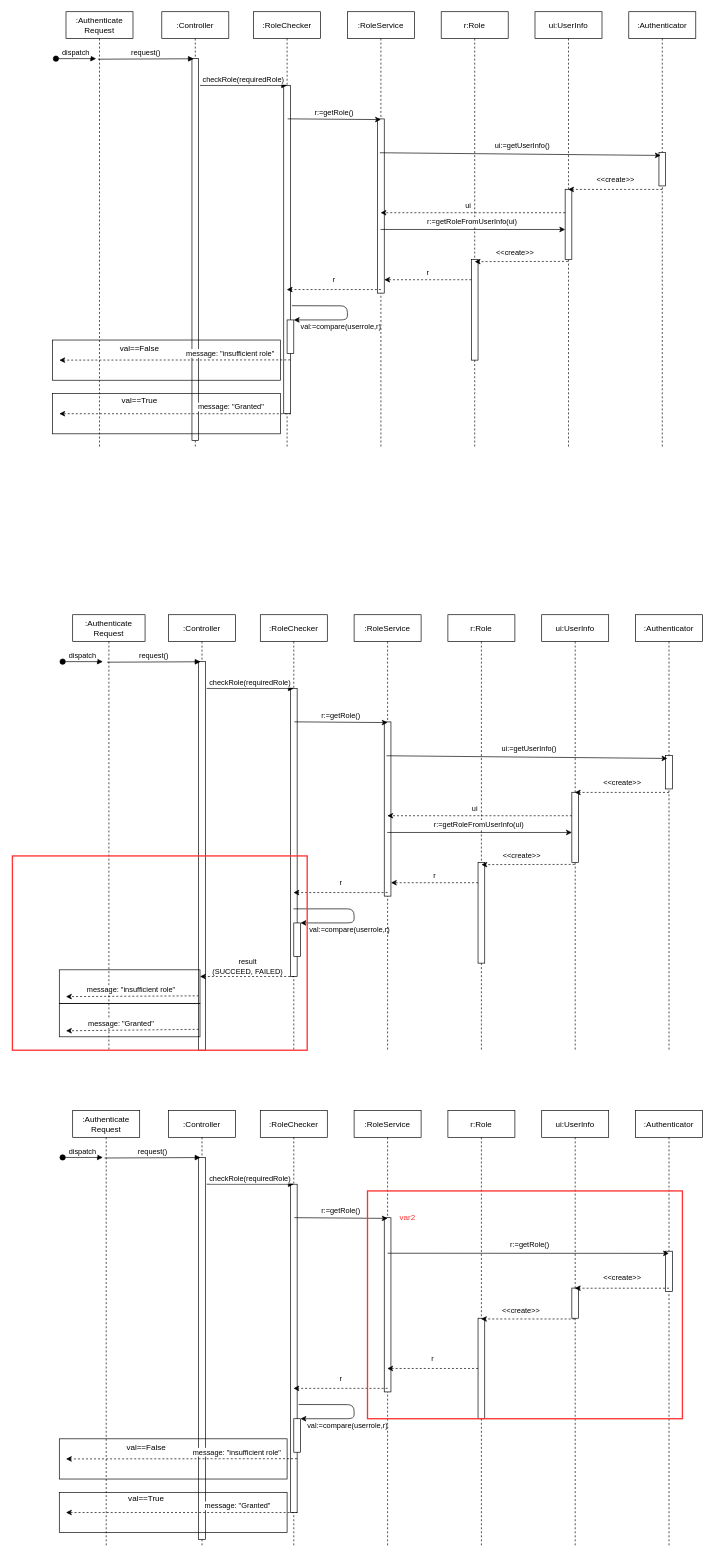
This 714x1558 diagram has some shape labels left out. Each missing label, with the centre of its shape:
"result==False" goes at (x=129, y=986).
"result==True" goes at (x=129, y=1020).
"var1" goes at (x=159, y=953).
